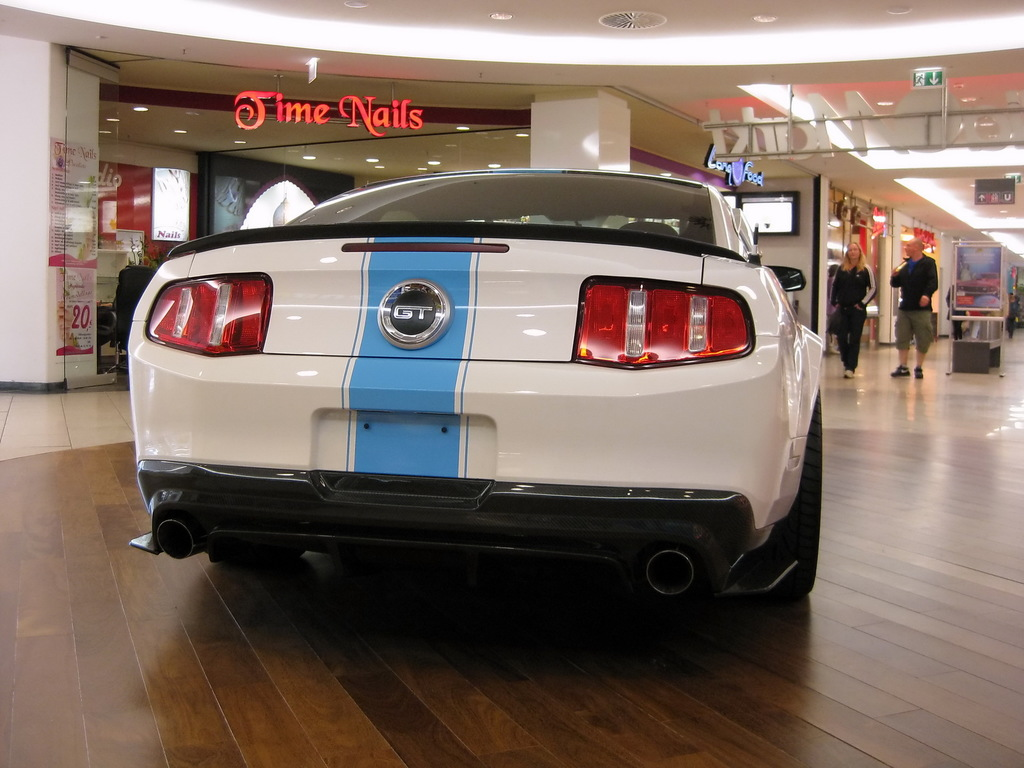car: (81, 142, 861, 654)
